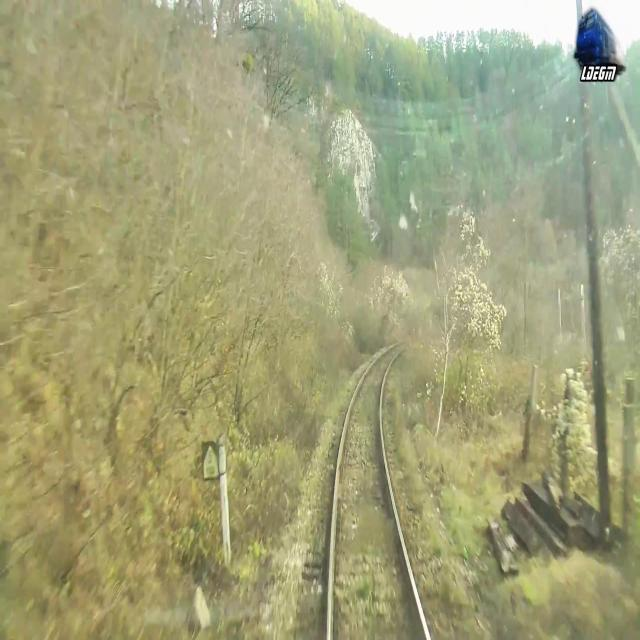rail-track: (333, 345, 425, 639)
